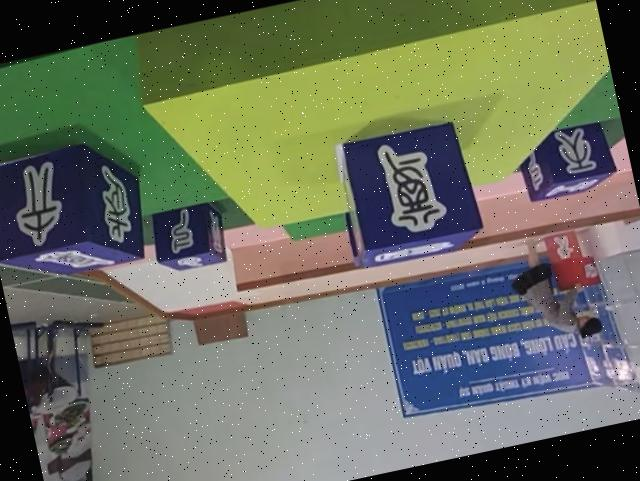R2 Fake Blue: (0, 131, 154, 288), (329, 117, 487, 270), (512, 118, 620, 203), (147, 197, 232, 275)
